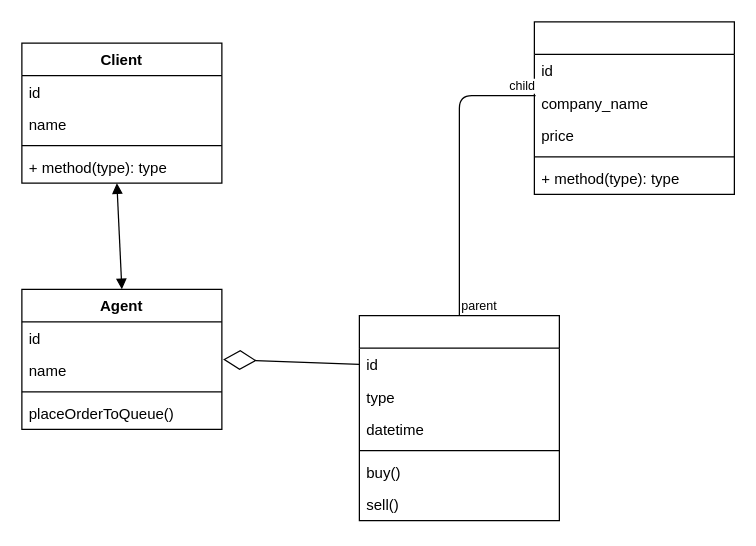
Some shapes in this 756 by 546 pixel diagram are drawn without their labels. The box of each missing label's shape, as (x1, y1, x2, y2) in pixels:
Order: (358, 314, 559, 521)
Stock: (533, 21, 734, 194)
